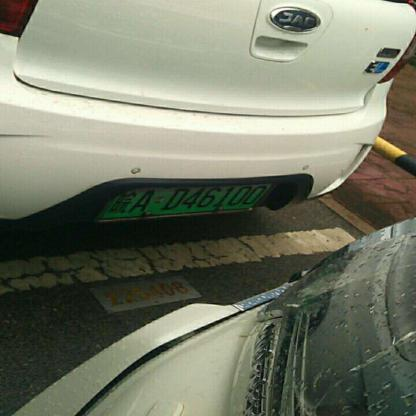lp: (101, 181, 274, 219)
